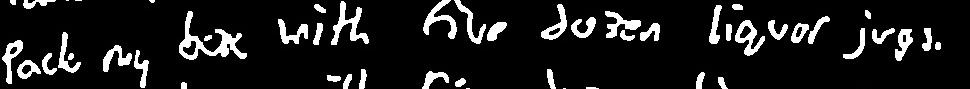Pack my box with five dozen liquor jugs.: (0, 0, 970, 89)
